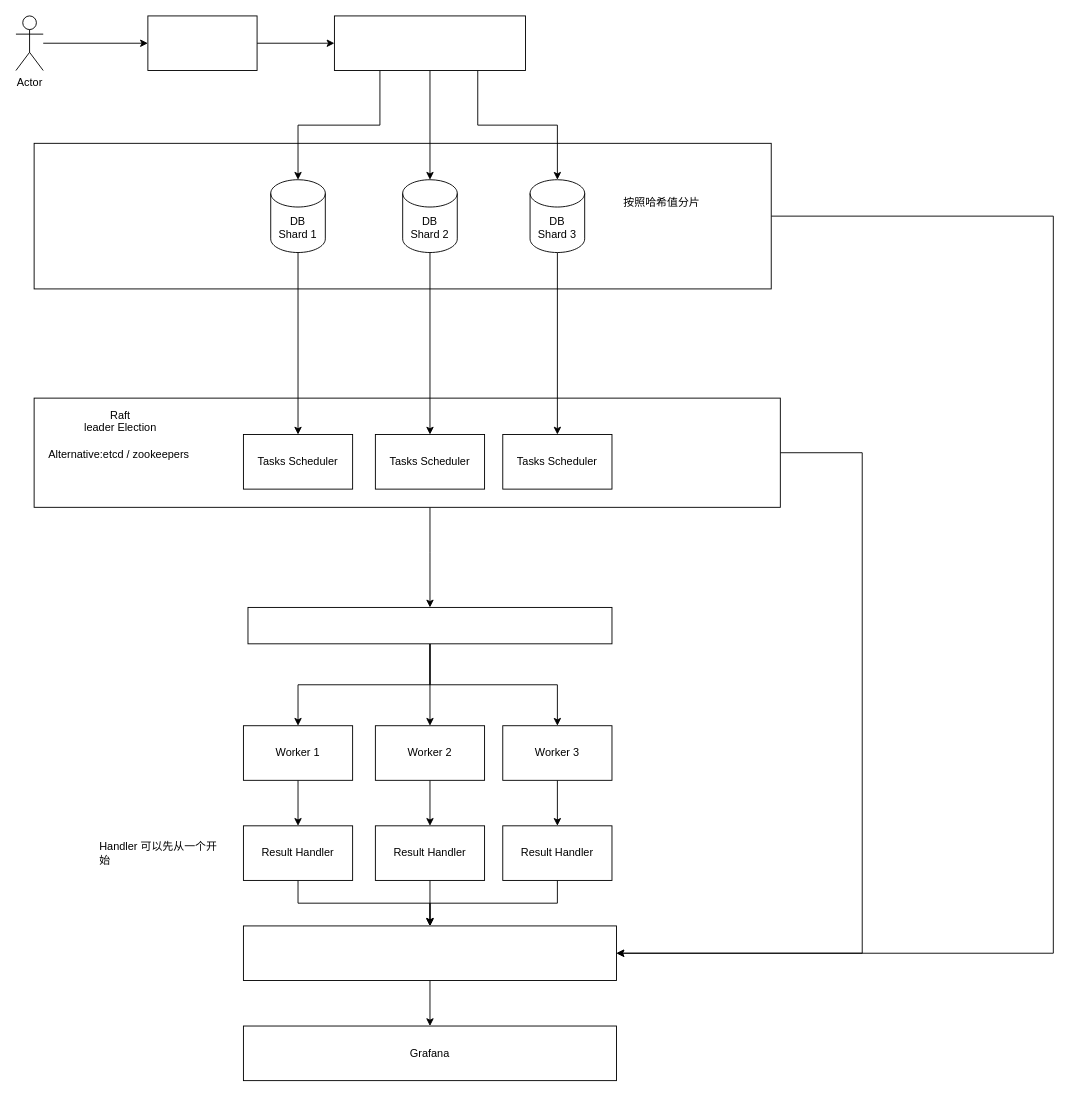
This 1077x1097 diagram has some shape labels left out. Each missing label, with the box of its shape:
Load Balancer: (247, 607, 612, 644)
Promethus: (243, 925, 617, 981)
Task Distributor: (334, 15, 526, 71)
Task Generator: (147, 15, 257, 71)
